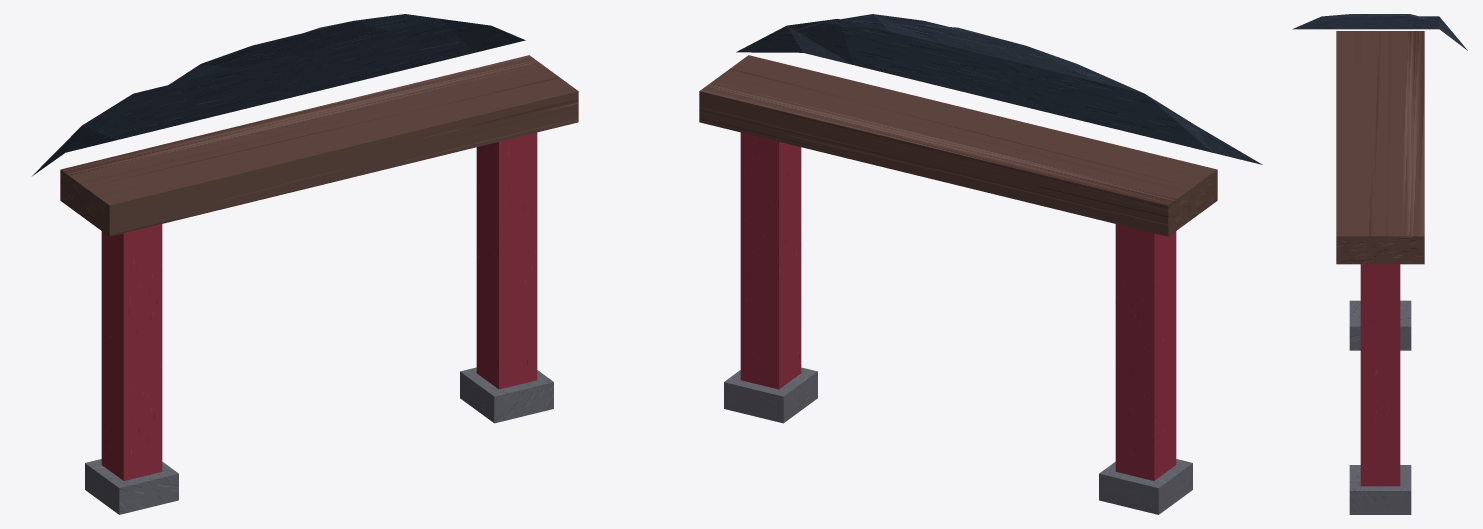
Rendered from shogun_citadel_gate_lod1.glb.
The picture shows the model from 3 angles, left to right: view 1: azimuth 30°, elevation 25°; view 2: azimuth 150°, elevation 25°; view 3: azimuth 270°, elevation 25°; orthographic projection. The views are drawn at different scales.
Parts seen in each view (by area): view 1: shogun_citadel_gate_004, shogun_citadel_gate_005, shogun_citadel_gate_000, shogun_citadel_gate_002, shogun_citadel_gate_003, shogun_citadel_gate_001; view 2: shogun_citadel_gate_004, shogun_citadel_gate_005, shogun_citadel_gate_000, shogun_citadel_gate_002, shogun_citadel_gate_003, shogun_citadel_gate_001; view 3: shogun_citadel_gate_004, shogun_citadel_gate_002, shogun_citadel_gate_003, shogun_citadel_gate_005, shogun_citadel_gate_001.
Boxes of the visible parts, <box> form: shogun_citadel_gate_004: <box>60,55,578,236</box>; shogun_citadel_gate_005: <box>32,14,525,175</box>; shogun_citadel_gate_000: <box>101,224,162,480</box>; shogun_citadel_gate_002: <box>476,132,537,389</box>; shogun_citadel_gate_003: <box>460,367,553,423</box>; shogun_citadel_gate_001: <box>85,459,178,514</box>; shogun_citadel_gate_004: <box>699,55,1217,236</box>; shogun_citadel_gate_005: <box>736,14,1262,164</box>; shogun_citadel_gate_000: <box>1115,224,1176,480</box>; shogun_citadel_gate_002: <box>740,132,801,389</box>; shogun_citadel_gate_003: <box>724,367,817,423</box>; shogun_citadel_gate_001: <box>1099,459,1192,514</box>; shogun_citadel_gate_004: <box>1336,31,1424,264</box>; shogun_citadel_gate_002: <box>1360,264,1400,486</box>; shogun_citadel_gate_003: <box>1349,465,1411,514</box>; shogun_citadel_gate_005: <box>1292,14,1467,50</box>; shogun_citadel_gate_001: <box>1349,300,1411,350</box>.
Size of the model in its own units: 12 by 9.45 by 4.
4 materials, 4 textured.
